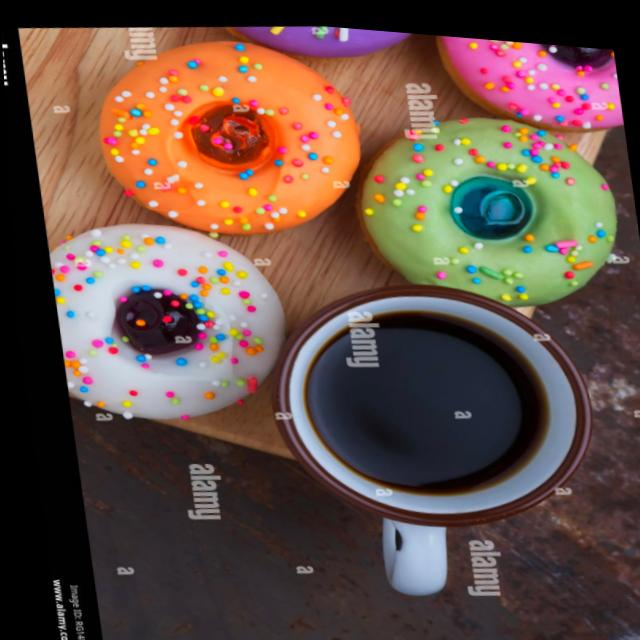donut: (83, 18, 374, 247), (342, 93, 628, 312), (43, 200, 296, 434), (432, 28, 624, 135)
kopi hitam: (252, 251, 605, 542)
